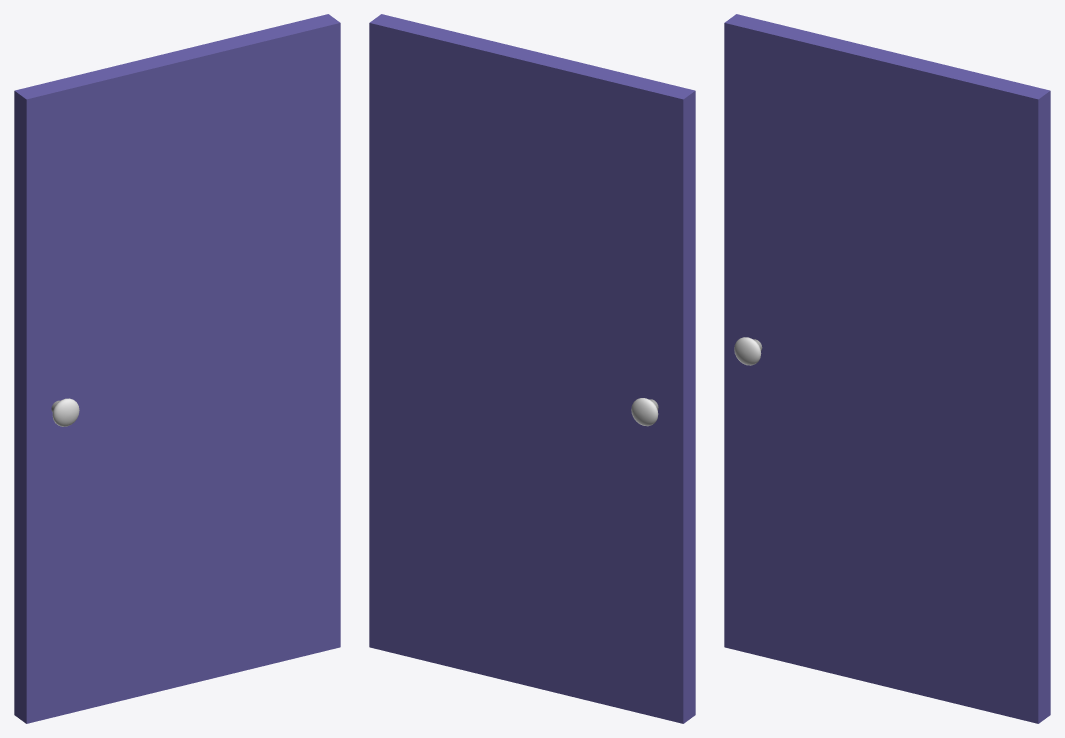
File: Door.fbx
3 views of the same model, side by side, from view 1: azimuth 30°, elevation 25°; view 2: azimuth 150°, elevation 25°; view 3: azimuth 330°, elevation 25° (orthographic).
Visible parts, largest first — view 1: Door, Knob1; view 2: Door, Knob1; view 3: Door, Knob1.
Boxes of the visible parts, x1=… form: Door: x1=14, y1=14, x2=340, y2=723; Knob1: x1=52, y1=398, x2=79, y2=426; Door: x1=369, y1=14, x2=695, y2=723; Knob1: x1=631, y1=398, x2=658, y2=426; Door: x1=724, y1=14, x2=1050, y2=723; Knob1: x1=734, y1=337, x2=761, y2=365.
Bounding box in the file's own units: 1500 × 2850 × 289.
